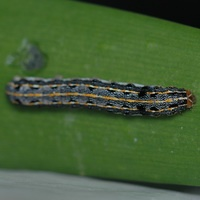insect: (6, 76, 194, 116)
